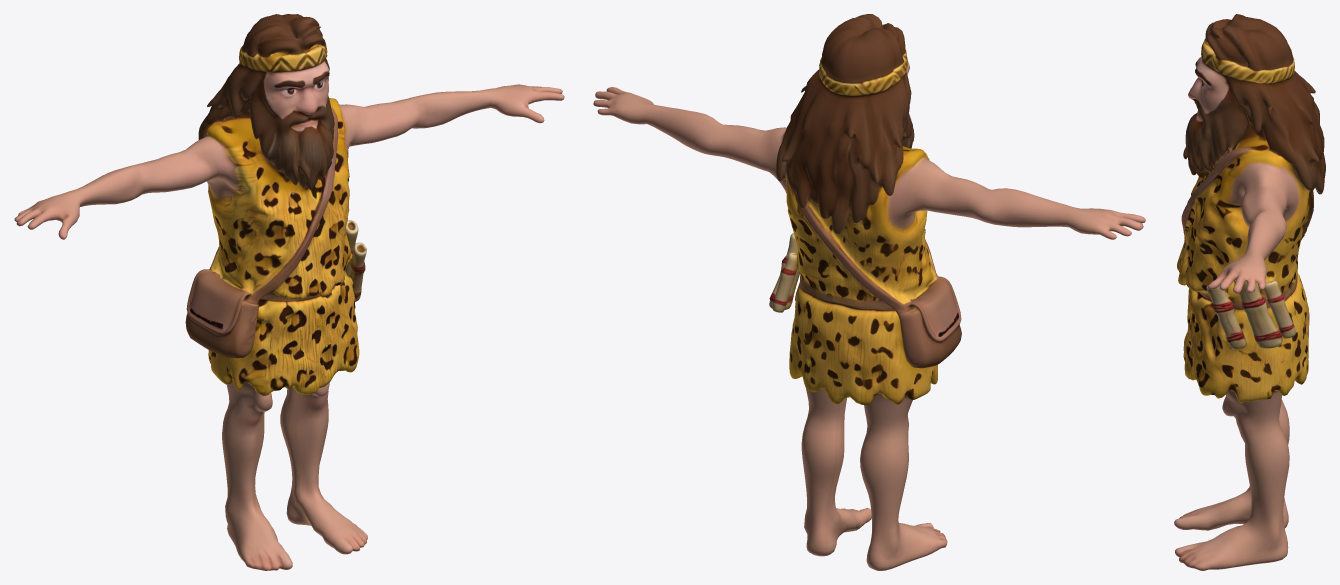
Rendered from rodin_a.glb.
The picture shows the model from 3 angles, left to right: view 1: azimuth 30°, elevation 25°; view 2: azimuth 150°, elevation 25°; view 3: azimuth 270°, elevation 25°; orthographic projection.
Visible parts, largest first — view 1: model; view 2: model; view 3: model.
Boxes of the visible parts, left/top/right/bottom form: model: left=14, top=14, right=564, bottom=570; model: left=593, top=14, right=1145, bottom=570; model: left=1174, top=14, right=1325, bottom=570.
Size of the model in its own units: 1.89 by 1.74 by 0.4556.
1 material, 1 textured.
